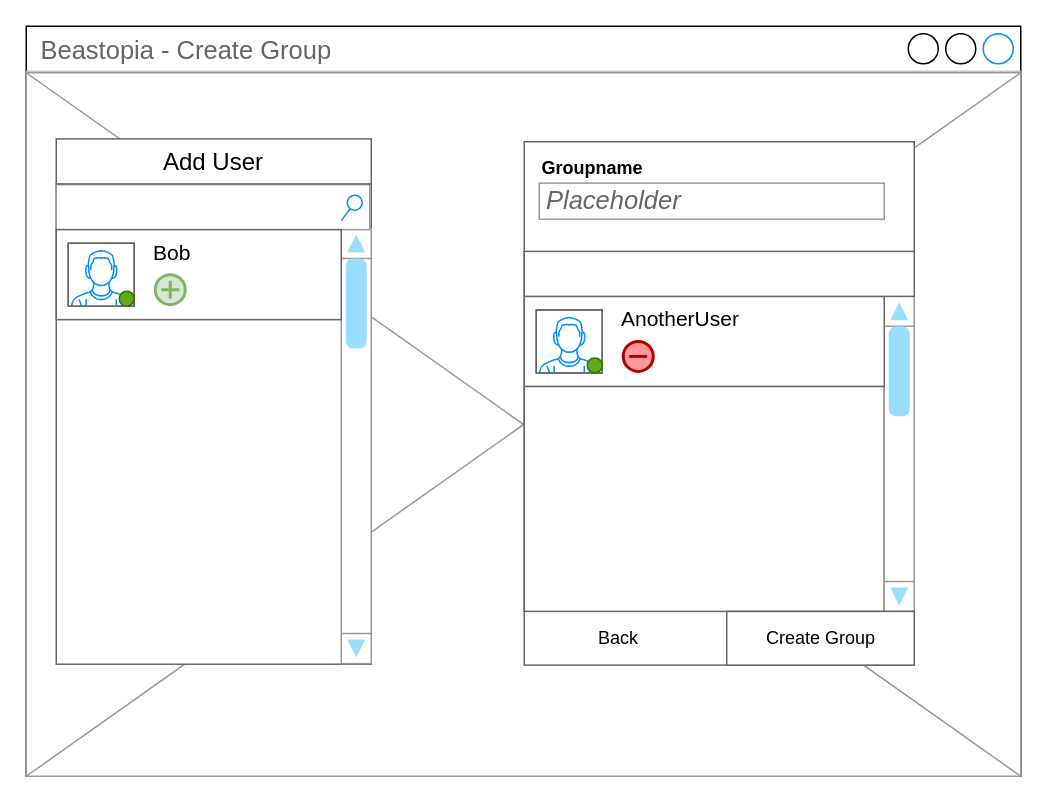
Image size: 1047x803. Some labels were removed from this diagram. Here are the shapes that lost their labels. From the top down, the centre of each, then its label:
At point (212, 206): "Search User...".
At point (718, 273): "Added Users".
